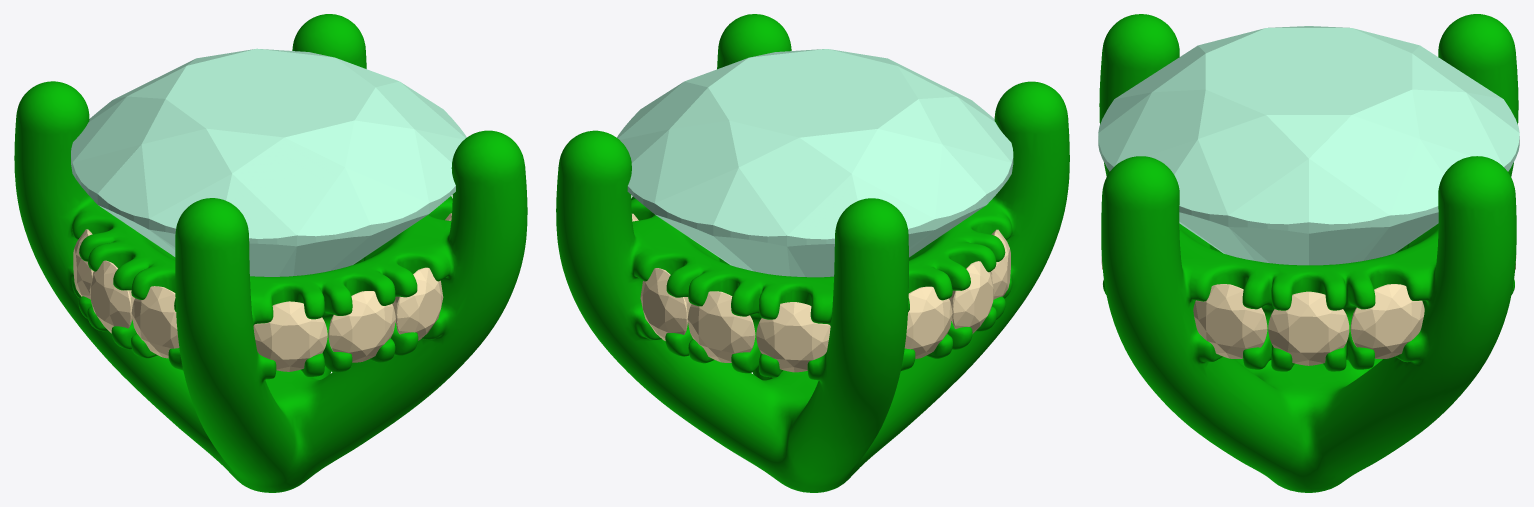
3 renders of one model, left to right at view 1: azimuth 30°, elevation 25°; view 2: azimuth 150°, elevation 25°; view 3: azimuth 270°, elevation 25°, orthographic. The views are drawn at different scales.
Visible parts, largest first — view 1: Metal01, CS_Diamond, Diamond_Round.011, Diamond_Round.010, Diamond_Round.005, Diamond_Round.009, Diamond_Round.003, Diamond_Round.004; view 2: Metal01, CS_Diamond, Diamond_Round.002, Diamond_Round, Diamond_Round.004, Diamond_Round.001, Diamond_Round.003, Diamond_Round.005; view 3: Metal01, CS_Diamond, Diamond_Round.006, Diamond_Round.008, Diamond_Round.007.
Part boxes in pixels (x1,y1,x2,y2): Metal01: (14,14,527,492); CS_Diamond: (71,48,466,276); Diamond_Round.011: (253,301,327,371); Diamond_Round.010: (328,291,395,362); Diamond_Round.005: (131,286,179,358); Diamond_Round.009: (392,267,443,340); Diamond_Round.003: (89,260,134,333); Diamond_Round.004: (73,229,93,299); Metal01: (556,14,1069,492); CS_Diamond: (617,49,1013,277); Diamond_Round.002: (756,302,830,372); Diamond_Round: (687,291,755,362); Diamond_Round.004: (904,286,952,358); Diamond_Round.001: (640,268,691,340); Diamond_Round.003: (949,261,994,333); Diamond_Round.005: (990,229,1010,299); Metal01: (1099,14,1518,492); CS_Diamond: (1098,26,1519,265); Diamond_Round.006: (1268,291,1349,365); Diamond_Round.008: (1350,284,1424,358); Diamond_Round.007: (1193,284,1267,358).
Bounding box in the file's own units: 5.2 × 5.62 × 5.2.
